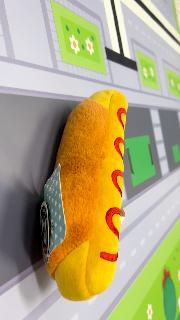hotdog: (40, 88, 128, 302)
